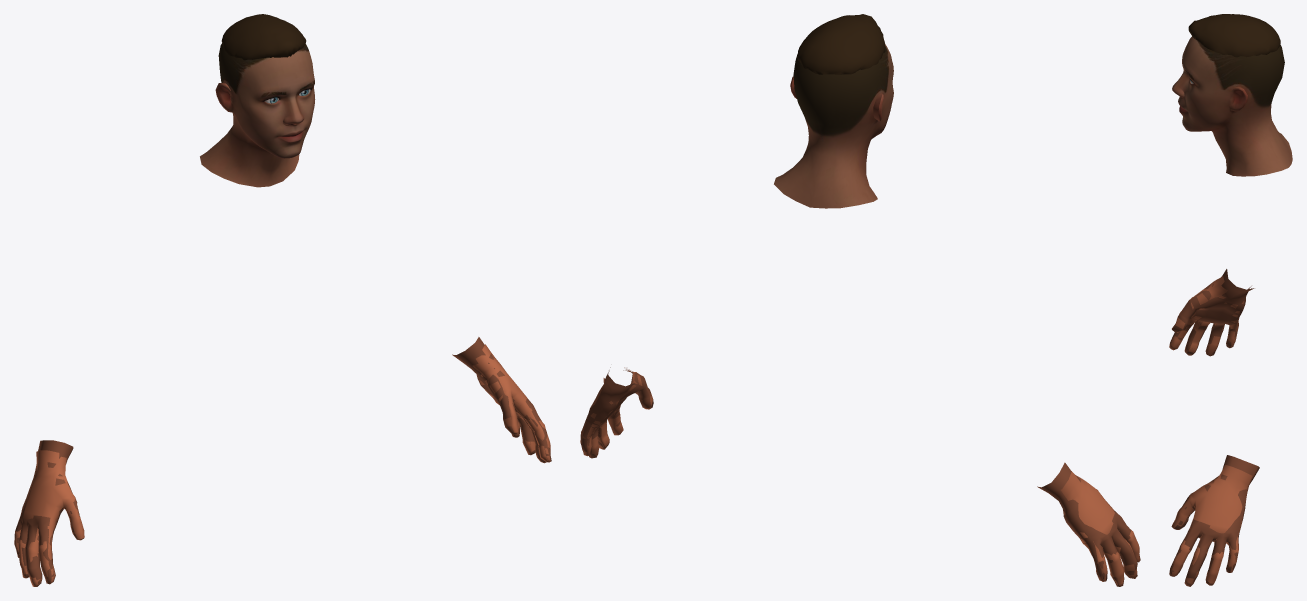
File: headbody2.glb
The picture shows the model from 3 angles, left to right: view 1: azimuth 30°, elevation 25°; view 2: azimuth 150°, elevation 25°; view 3: azimuth 270°, elevation 25°; orthographic projection. The views are drawn at different scales.
Visible parts, largest first — view 1: Wolf3D_Head, Wolf3D_Body.001, Wolf3D_Body, Wolf3D_Hair; view 2: Wolf3D_Head, Wolf3D_Body, Wolf3D_Hair, Wolf3D_Body.001; view 3: Wolf3D_Head, Wolf3D_Body.001, Wolf3D_Body, Wolf3D_Hair.
Boxes of the visible parts, x1,y1,x2,y2 form: Wolf3D_Head: (200, 43, 315, 187); Wolf3D_Body.001: (14, 344, 550, 586); Wolf3D_Body: (14, 337, 551, 586); Wolf3D_Hair: (221, 14, 306, 60); Wolf3D_Head: (774, 44, 893, 208); Wolf3D_Body: (580, 367, 1140, 586); Wolf3D_Hair: (797, 14, 885, 74); Wolf3D_Body.001: (580, 367, 1140, 586); Wolf3D_Head: (1172, 36, 1292, 176); Wolf3D_Body.001: (1169, 276, 1252, 586); Wolf3D_Body: (1169, 269, 1259, 585); Wolf3D_Hair: (1188, 14, 1280, 57).
Bounding box in the file's own units: 1.06 × 0.9511 × 0.2352.
Materials: 10 (10 with a texture image).
